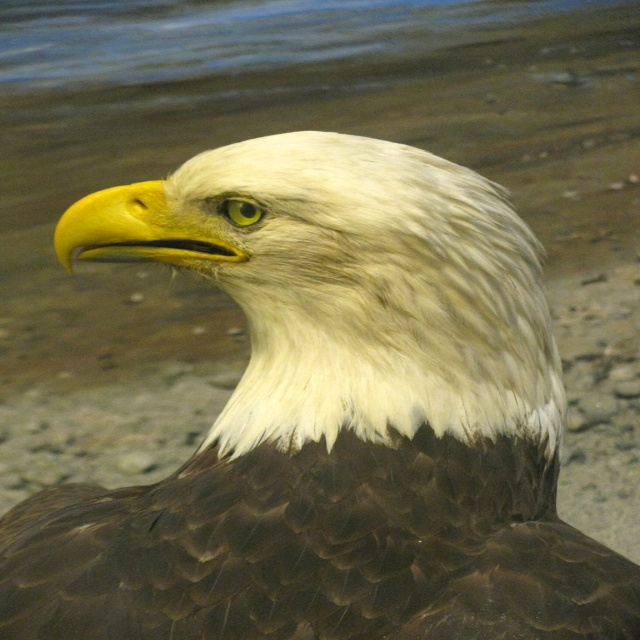Eagle: (0, 128, 639, 640)
